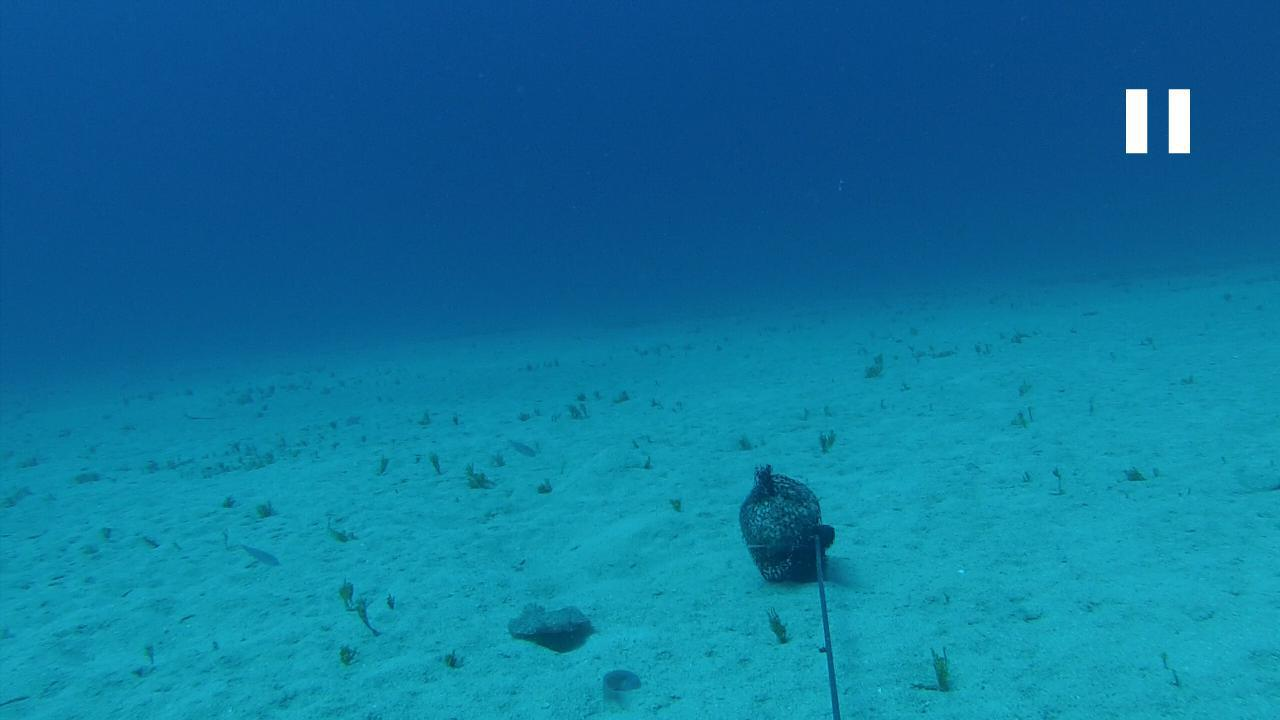bothus: (503, 596, 593, 650)
